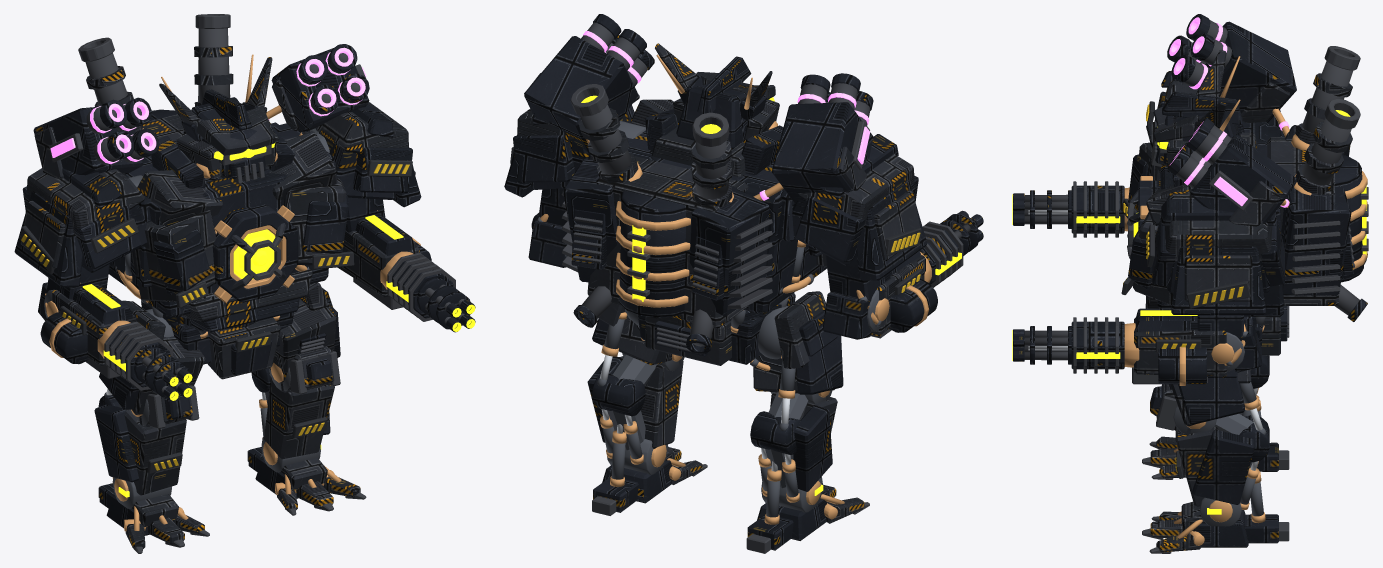
Rendered from custodio_corebreaker.glb.
3 views of the same model, side by side, from view 1: azimuth 30°, elevation 25°; view 2: azimuth 150°, elevation 25°; view 3: azimuth 270°, elevation 25° (orthographic). The views are drawn at different scales.
Visible parts, largest first — view 1: Hombreras_Morteros, Chasis_Torso, Brazos_Gatling, Pierna_Der, Pierna_Izq, Cabeza_Casco, Reactor_Dorsal, Cadera_Cintura, Nucleo_Emisivo; view 2: Reactor_Dorsal, Hombreras_Morteros, Pierna_Izq, Pierna_Der, Brazos_Gatling, Chasis_Torso, Cadera_Cintura, Cabeza_Casco, Cables_Cobre; view 3: Hombreras_Morteros, Brazos_Gatling, Reactor_Dorsal, Pierna_Der, Chasis_Torso, Cabeza_Casco, Pierna_Izq, Cadera_Cintura, Cables_Cobre.
Boxes of the visible parts, bbox=[...] form: Hombreras_Morteros: bbox=[14, 44, 421, 287]; Chasis_Torso: bbox=[108, 122, 354, 332]; Brazos_Gatling: bbox=[38, 197, 475, 401]; Pierna_Der: bbox=[247, 298, 366, 515]; Pierna_Izq: bbox=[94, 309, 209, 553]; Cabeza_Casco: bbox=[159, 54, 279, 183]; Reactor_Dorsal: bbox=[78, 14, 269, 157]; Cadera_Cintura: bbox=[122, 282, 332, 379]; Nucleo_Emisivo: bbox=[233, 229, 277, 279]; Reactor_Dorsal: bbox=[561, 84, 772, 354]; Hombreras_Morteros: bbox=[504, 14, 927, 280]; Pierna_Izq: bbox=[746, 305, 869, 553]; Pierna_Der: bbox=[587, 309, 707, 515]; Brazos_Gatling: bbox=[528, 188, 983, 339]; Chasis_Torso: bbox=[588, 99, 827, 314]; Cadera_Cintura: bbox=[598, 291, 837, 368]; Cabeza_Casco: bbox=[655, 43, 779, 149]; Cables_Cobre: bbox=[537, 139, 881, 371]; Hombreras_Morteros: bbox=[1146, 14, 1296, 314]; Brazos_Gatling: bbox=[1012, 181, 1261, 385]; Reactor_Dorsal: bbox=[1267, 46, 1368, 321]; Pierna_Der: bbox=[1142, 377, 1289, 553]; Chasis_Torso: bbox=[1121, 121, 1283, 316]; Cabeza_Casco: bbox=[1151, 50, 1242, 172]; Pierna_Izq: bbox=[1142, 355, 1289, 479]; Cadera_Cintura: bbox=[1145, 304, 1289, 383]; Cables_Cobre: bbox=[1224, 108, 1289, 370].
Size of the model in its own units: 3.99 by 4.5 by 3.37.
11 materials, 2 textured.
